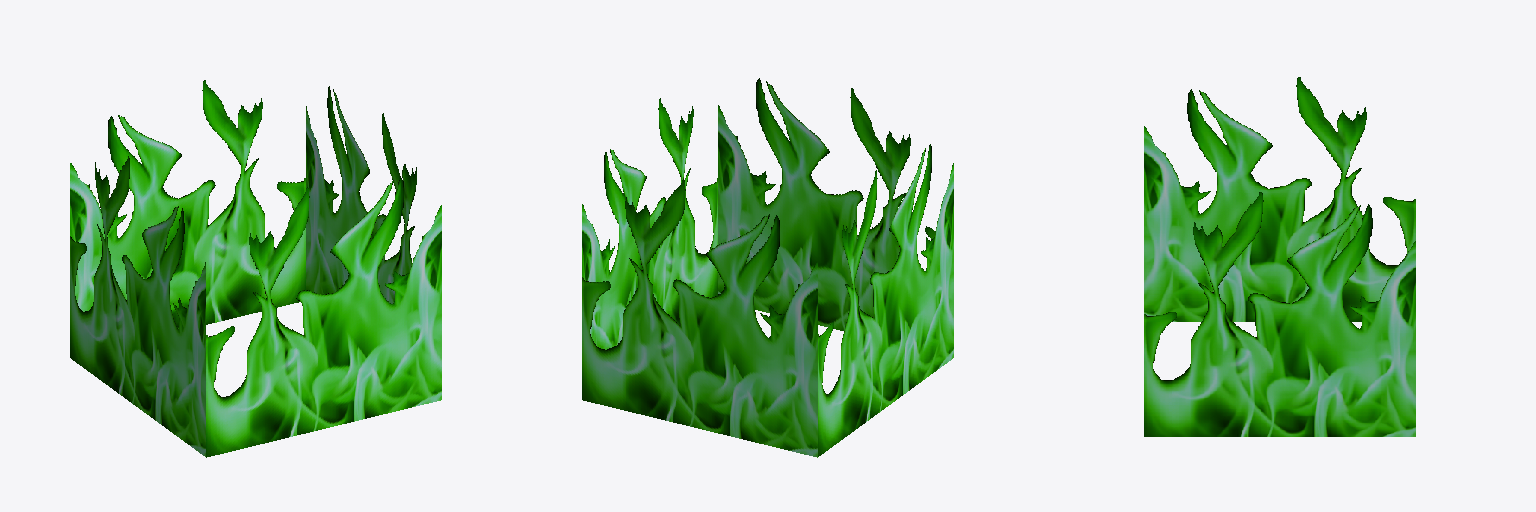
3 views of the same model, side by side, from view 1: azimuth 30°, elevation 25°; view 2: azimuth 150°, elevation 25°; view 3: azimuth 270°, elevation 25° (orthographic).
Visible parts, largest first — view 1: Plane; view 2: Plane; view 3: Plane.
Boxes of the visible parts, x1,y1,x2,y2 form: Plane: [70, 80, 441, 457]; Plane: [582, 78, 953, 457]; Plane: [1144, 77, 1415, 436].
Bounding box in the file's own units: 1 × 1 × 1.
Materials: 1 (1 with a texture image).